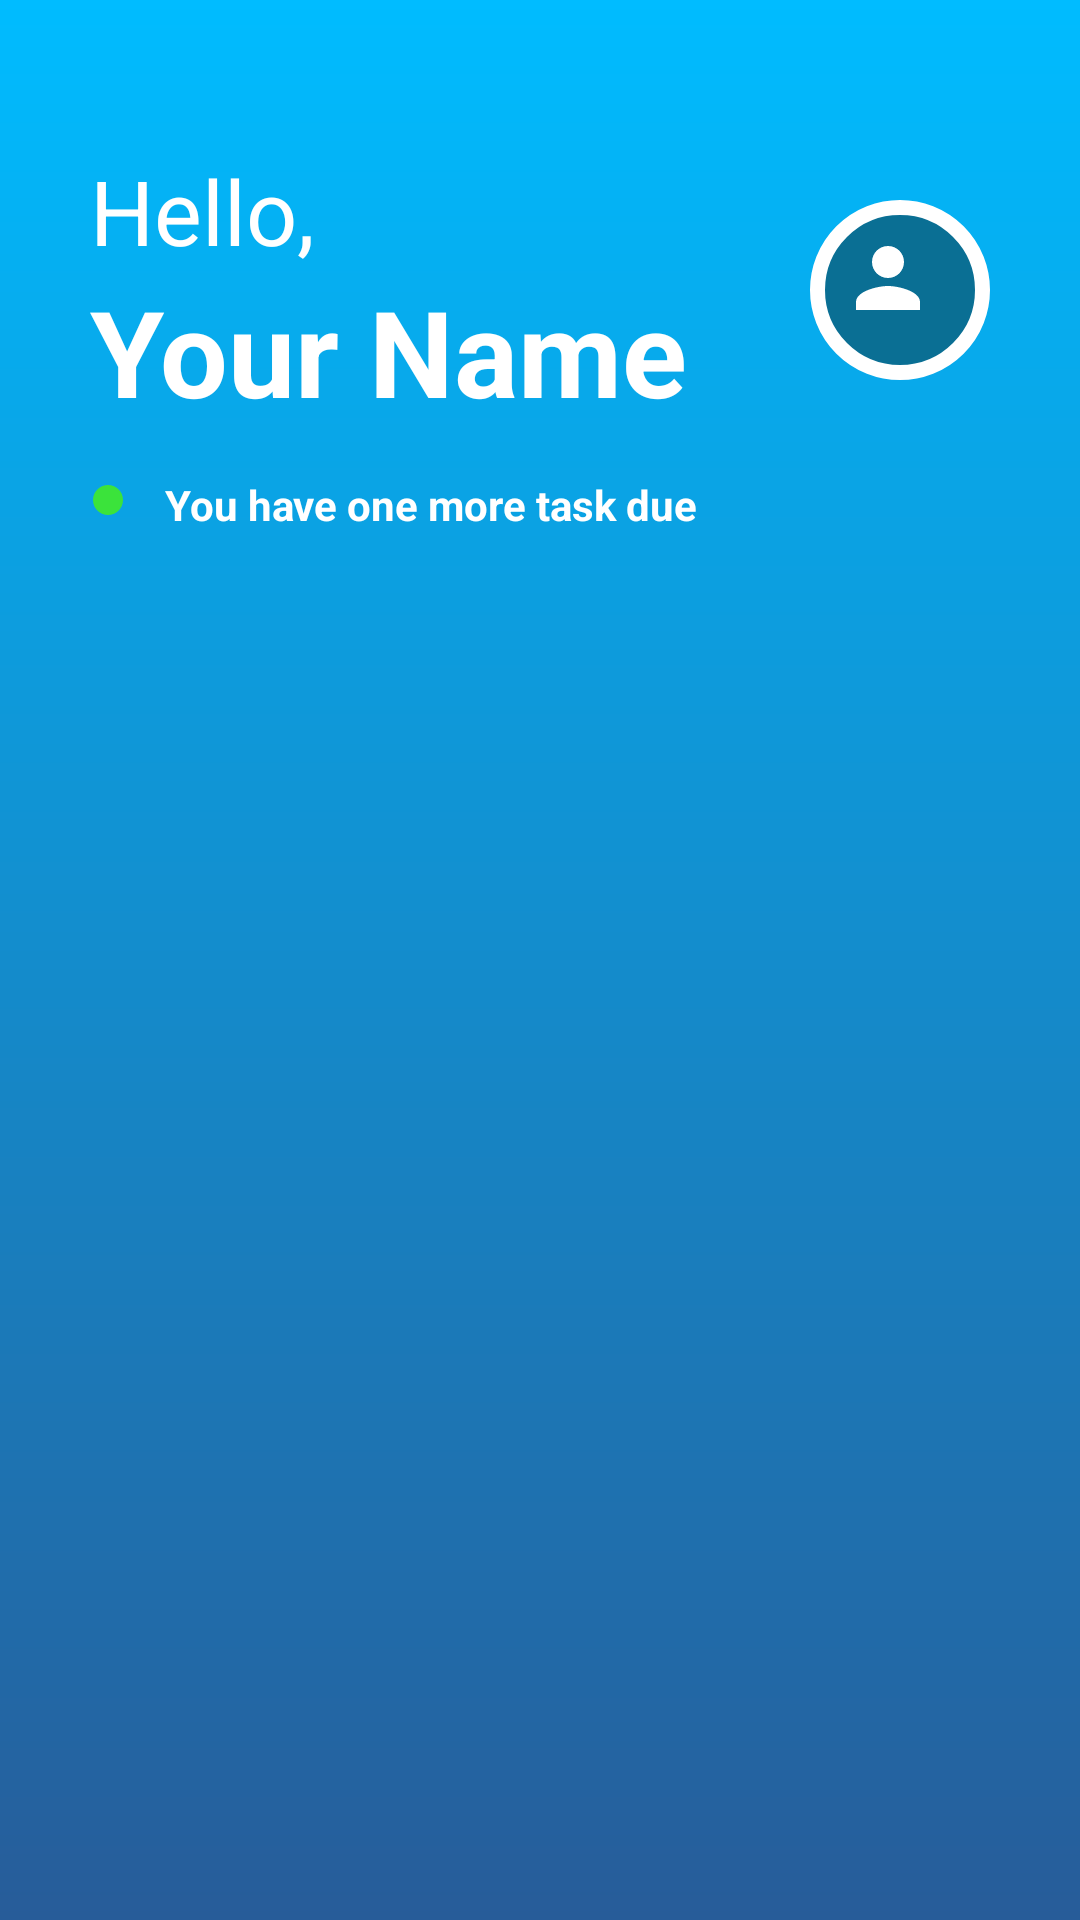

Screen size 1080px×1920px. Icon name, then its center in pixels as (x=x, y=y):
person: (x=888, y=278)
